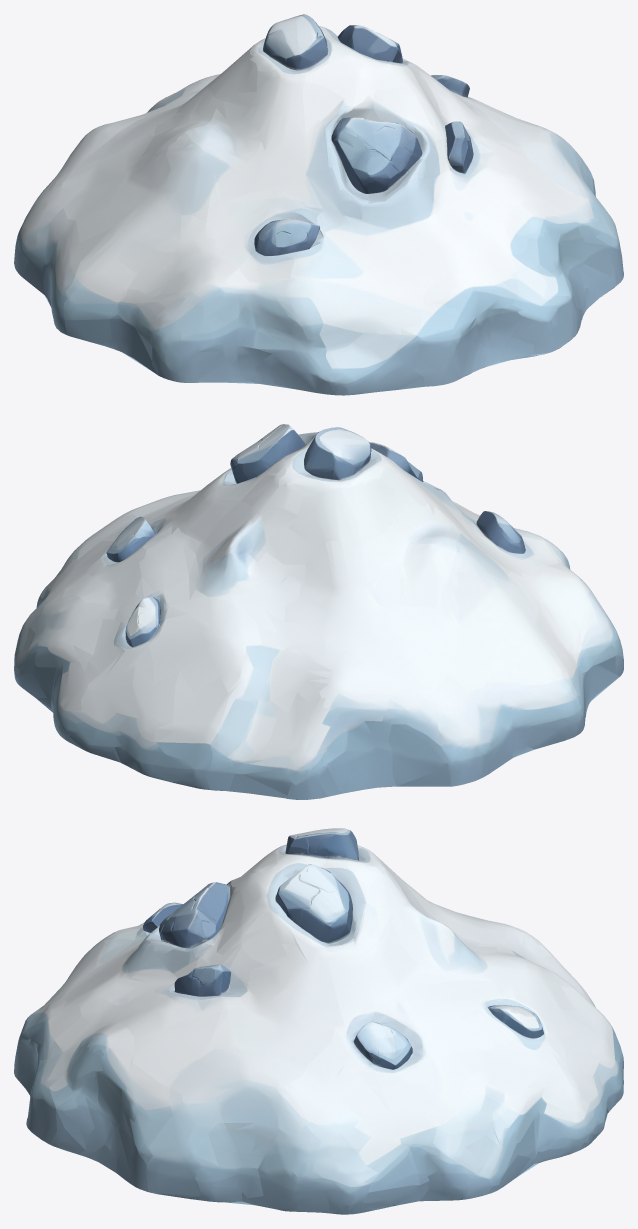
The model's file is snowdrift.glb.
The picture shows the model from 3 angles, top to bottom: view 1: azimuth 30°, elevation 25°; view 2: azimuth 150°, elevation 25°; view 3: azimuth 270°, elevation 25°; orthographic projection.
Bounding box in the file's own units: 1.9 × 0.8519 × 1.89.
1 material, 1 textured.
